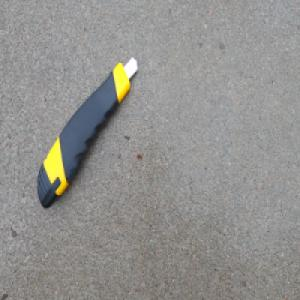Cutter: (37, 54, 139, 211)
